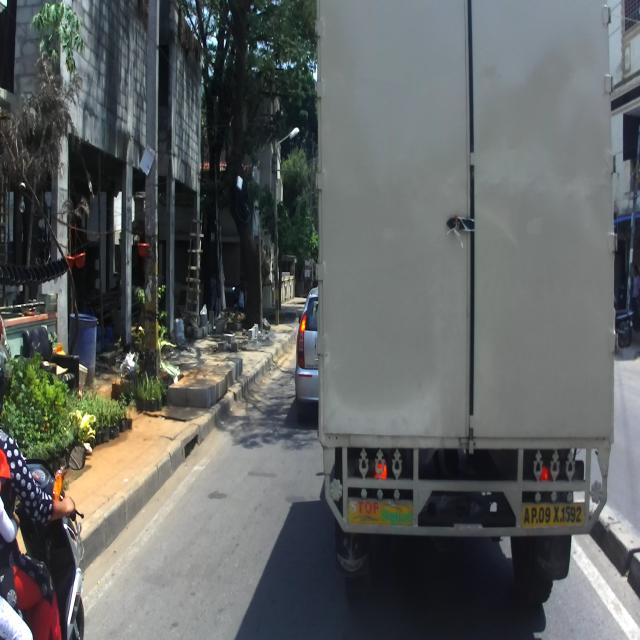electric pole ahead at: (138, 0, 169, 407)
truck ahead at: (310, 0, 620, 551)
